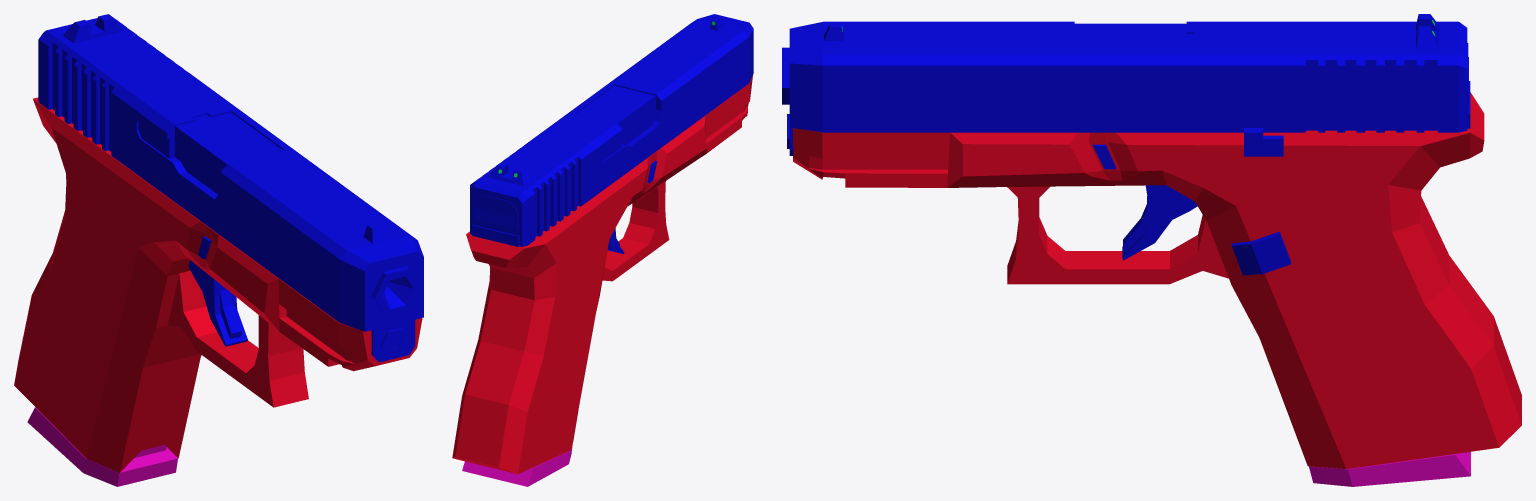
Rendered from Weapons_Glock_TPS.fbx.
The picture shows the model from 3 angles, left to right: view 1: azimuth 30°, elevation 25°; view 2: azimuth 150°, elevation 25°; view 3: azimuth 270°, elevation 25°; orthographic projection. The views are drawn at different scales.
Parts seen in each view (by area): view 1: Base, Magazine; view 2: Base, Magazine; view 3: Base, Magazine.
Boxes of the visible parts, x1=… form: Base: x1=14, y1=14, x2=423, y2=472; Magazine: x1=27, y1=407, x2=177, y2=486; Base: x1=452, y1=14, x2=753, y2=474; Magazine: x1=462, y1=445, x2=572, y2=486; Base: x1=782, y1=14, x2=1521, y2=468; Magazine: x1=1309, y1=451, x2=1470, y2=486.
Bounding box in the file's own units: 6.26 × 25.58 × 38.52.
